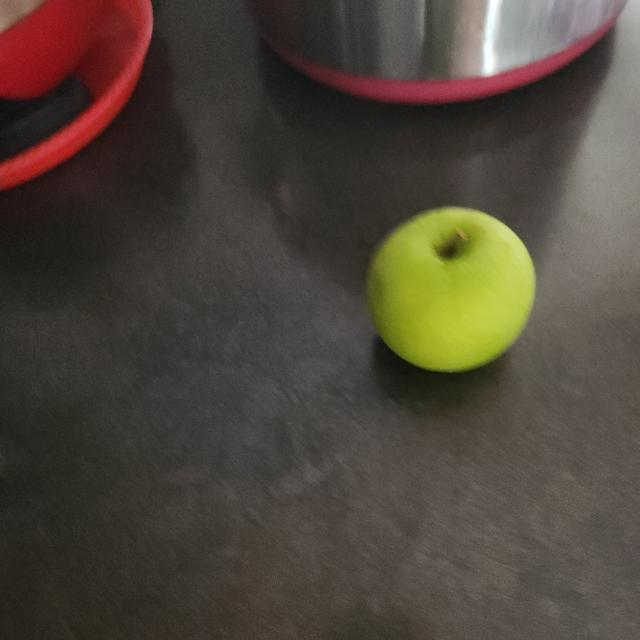apple: (362, 203, 548, 381)
